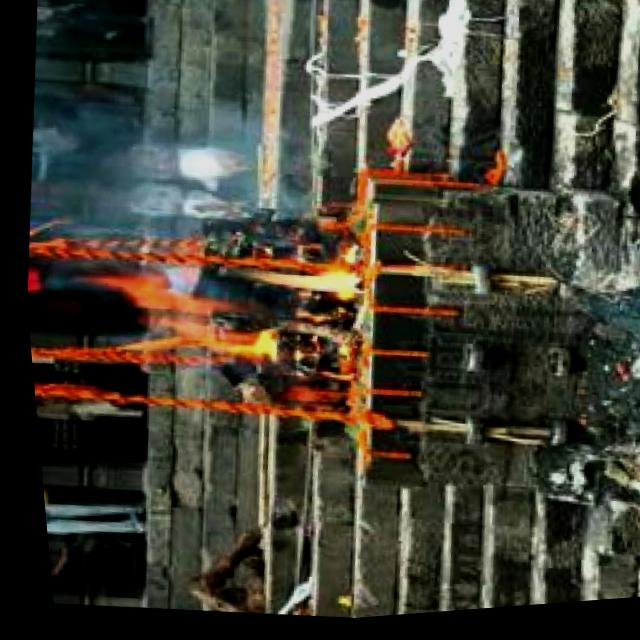Fire: (91, 233, 368, 388)
